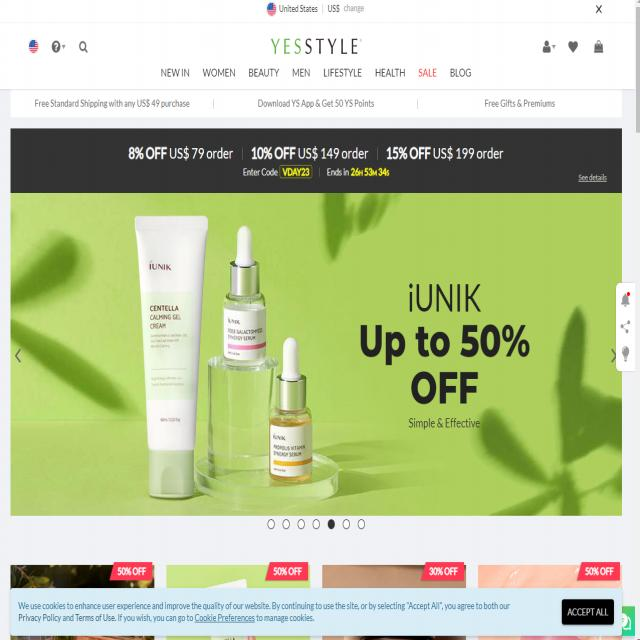sneaking: (12, 592, 626, 632), (99, 138, 522, 190)
